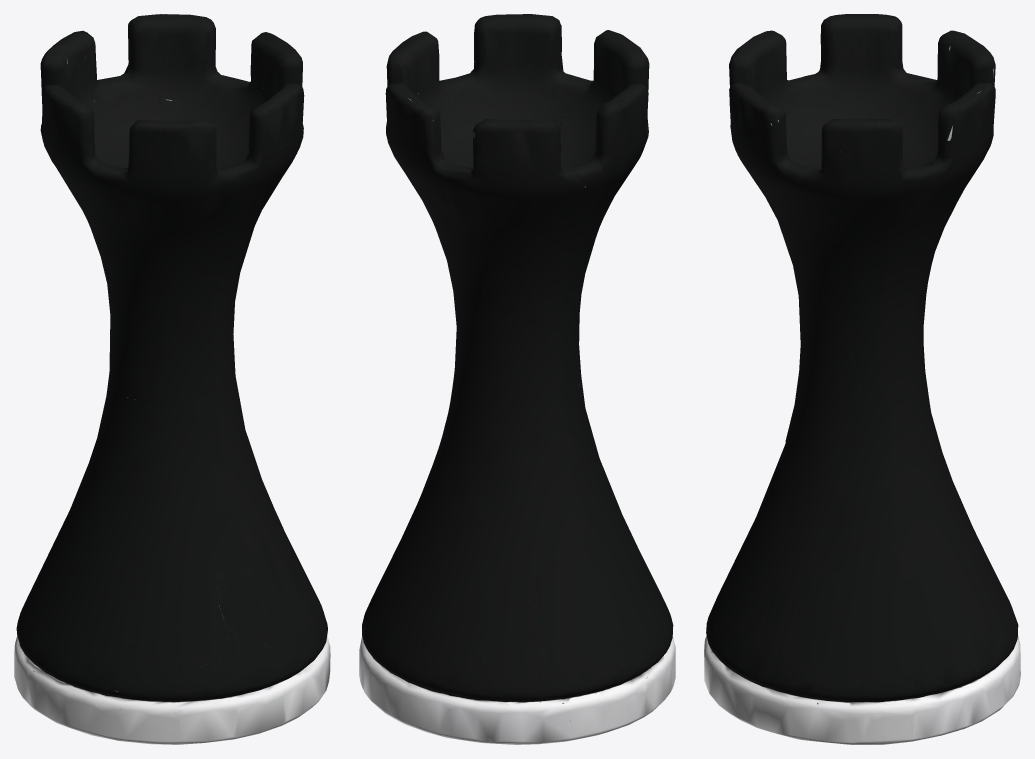
File: rook-black.glb
The picture shows the model from 3 angles, left to right: view 1: azimuth 30°, elevation 25°; view 2: azimuth 150°, elevation 25°; view 3: azimuth 270°, elevation 25°; orthographic projection.
Bounding box in the file's own units: 0.5161 × 1.1 × 0.5155.
Materials: 1 (1 with a texture image).
